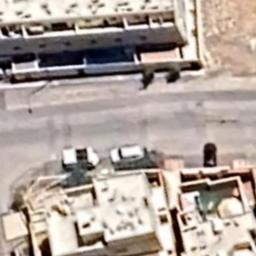SUV: (110, 144, 142, 164)
sedan: (203, 142, 217, 169)
van: (60, 145, 102, 170)
